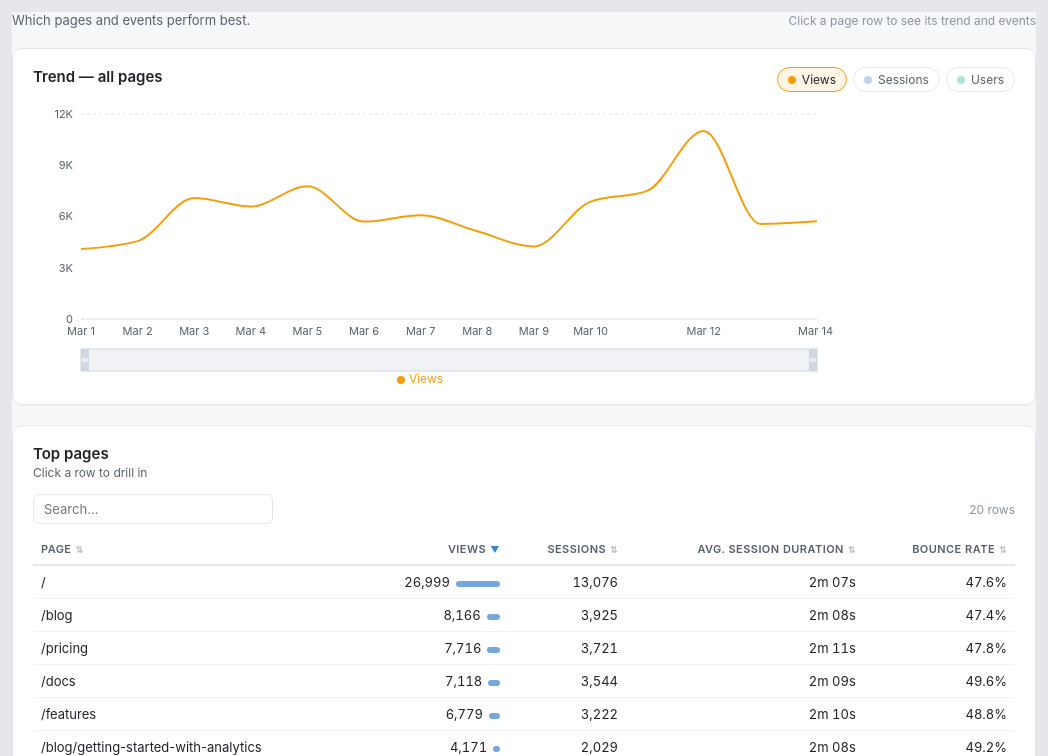
Test: ContentPage › searches the pages table
Type "/docs" into the search field at x=153, y=509, box [33,494,273,524]
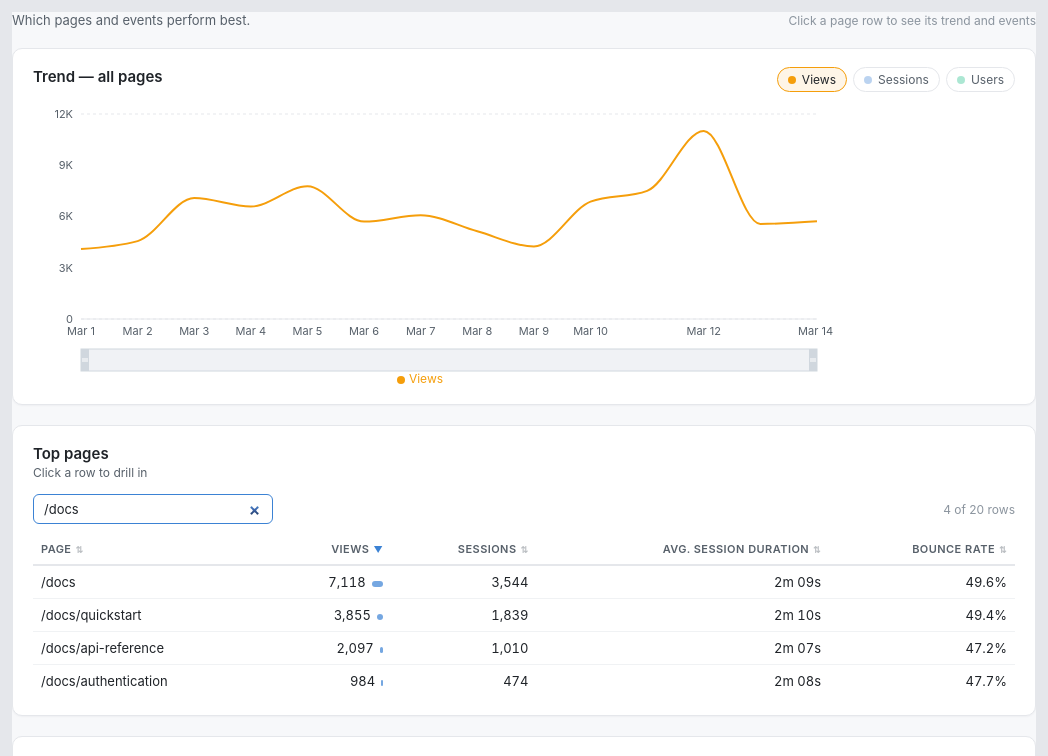
Expected: the cell "/docs" is shown, [33,565,272,599]
Now the cell "/docs/api-reference" is shown, box [33,632,272,665]
Now the cell "/docs/authentication" is shown, box [33,665,272,697]
